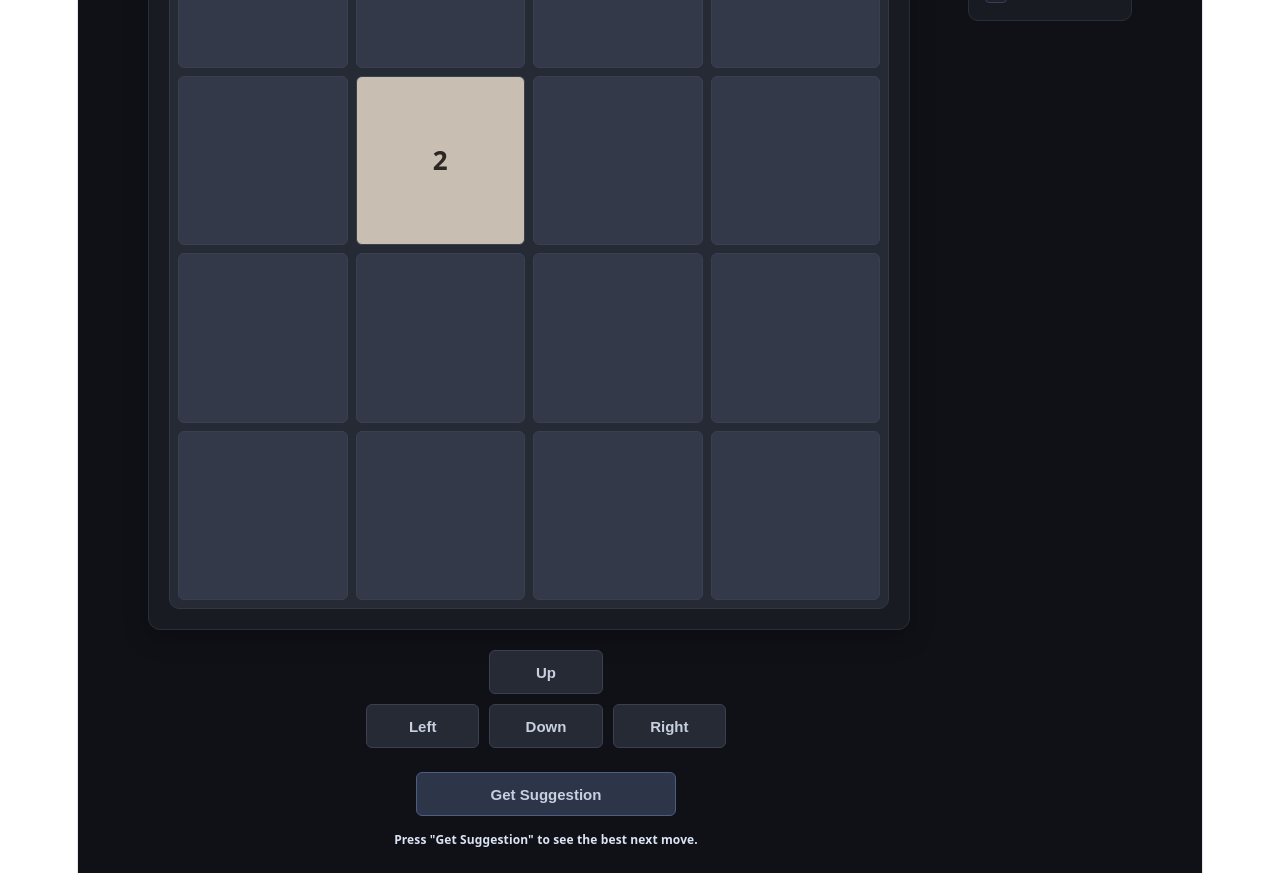
race condition — stale AI suggestion is discarded after user moves › does not display the stale AI direction after user makes a move before response arrives
The image size is (1280, 873).
(page scrolled)
Note: User requests an AI suggestion — promise in-flight.
Click the button "Get Suggestion".
click(546, 794)  # box [416,772,676,816]
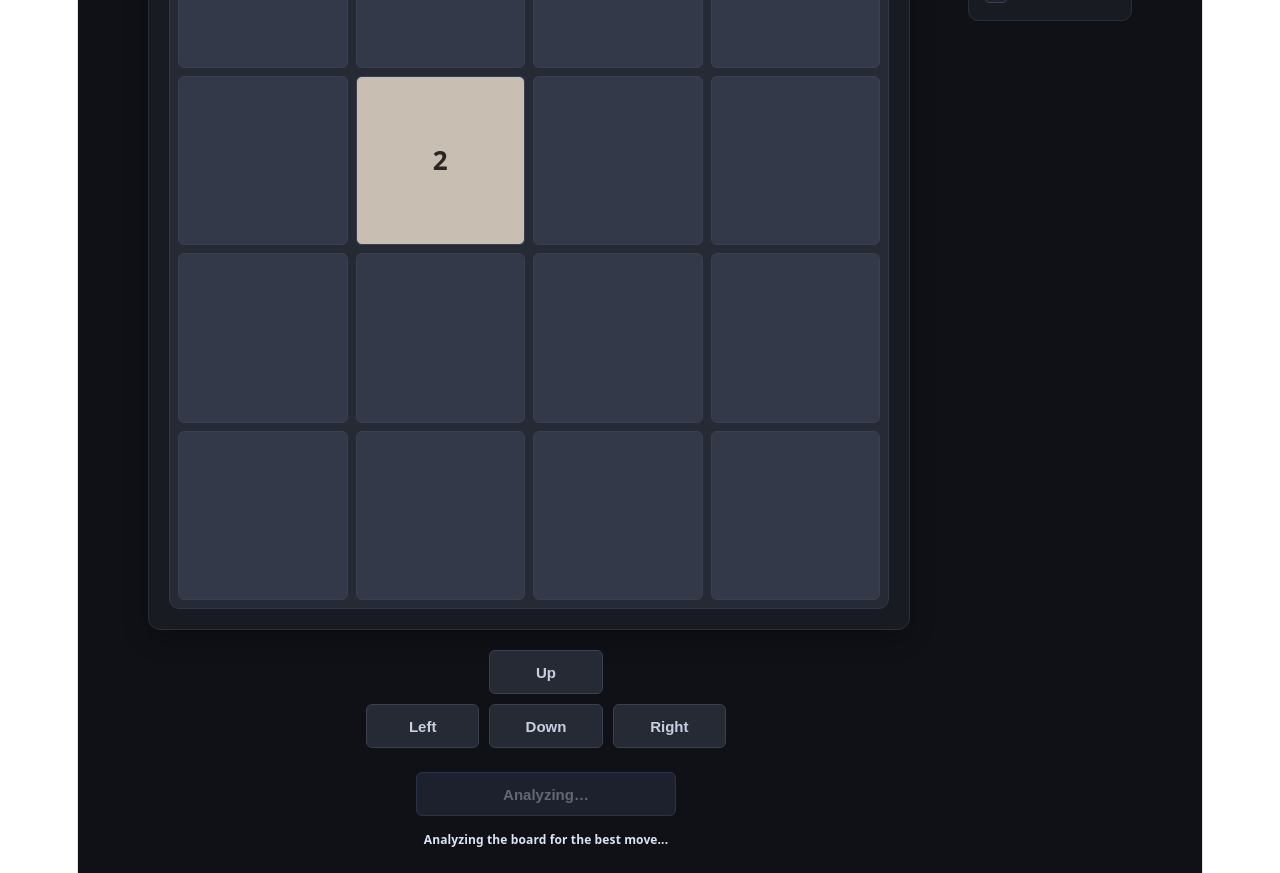
Result: the button "Analyzing…" is shown at [416,772,676,816]
Click the button with aria-label "move up".
click(546, 672)  # box [489,650,603,694]
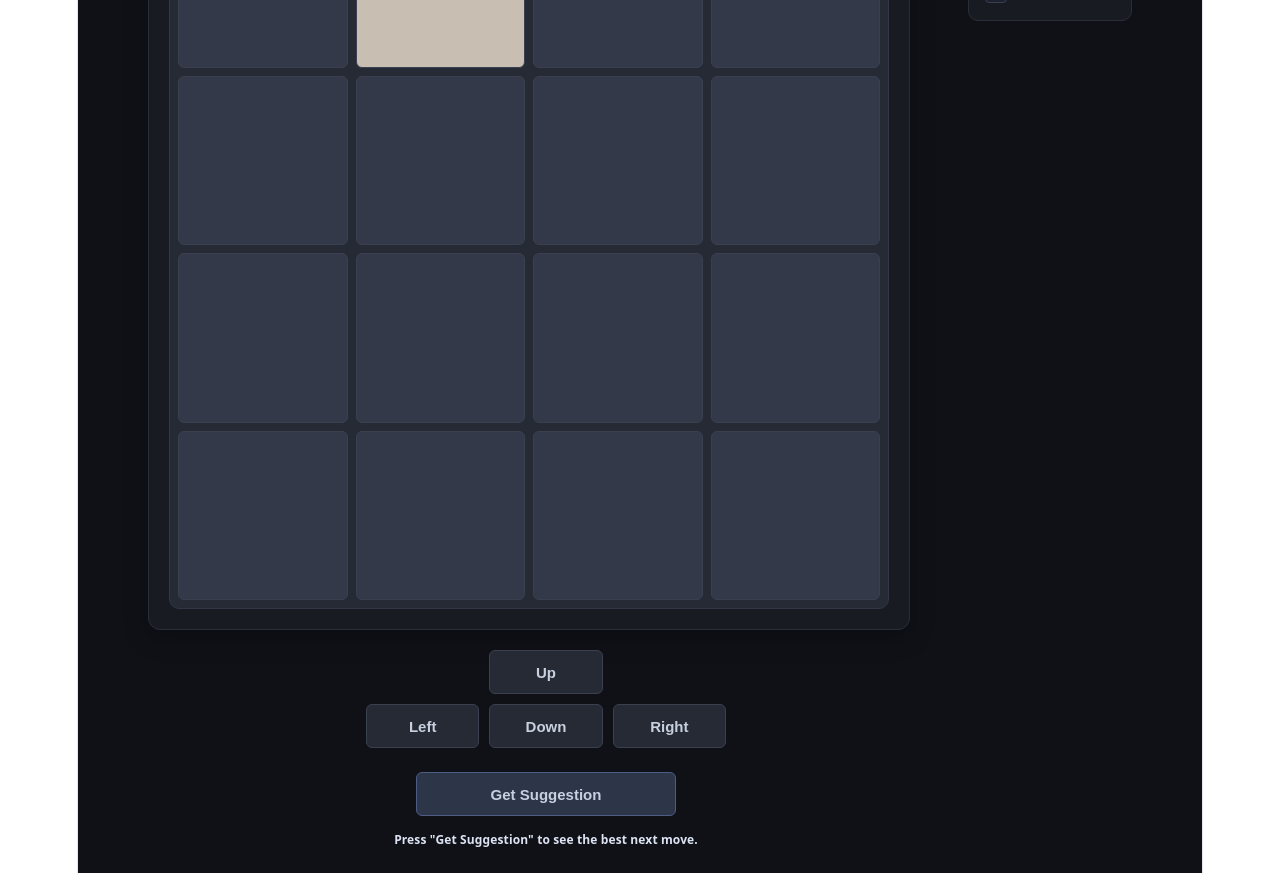
Result: the button "Analyzing" is gone
Result: the text "Press \"Get Suggestion\" to see the best next move." is shown at [394,831,698,848]
